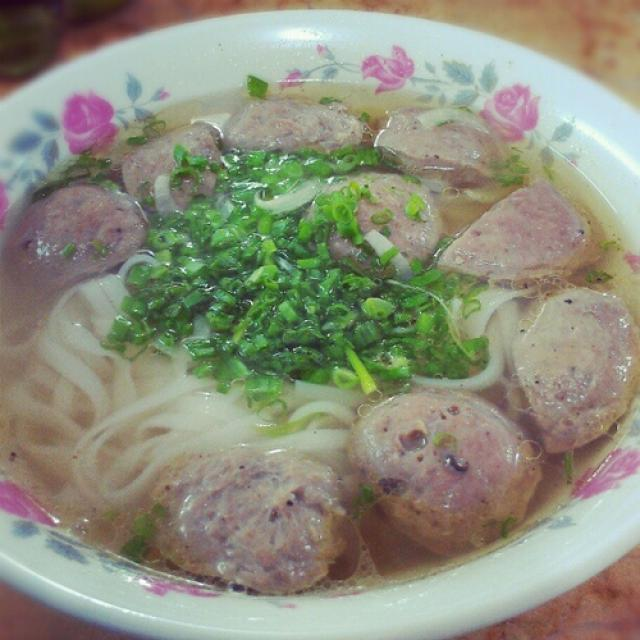面条主食: (12, 23, 606, 599)
